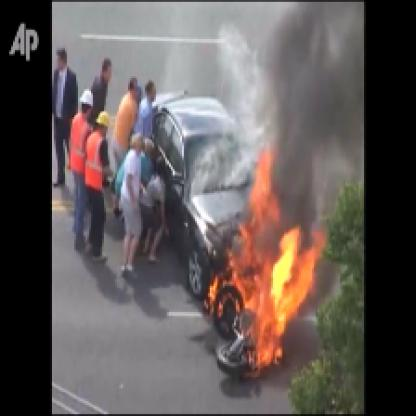Fire: (206, 146, 314, 380)
Smoke: (270, 2, 358, 200)
